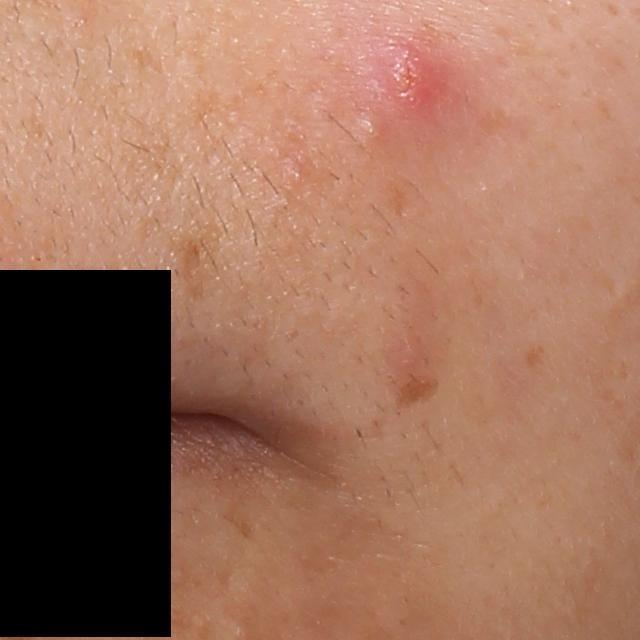comedo: (360, 115, 385, 138)
papule: (396, 46, 448, 119)
